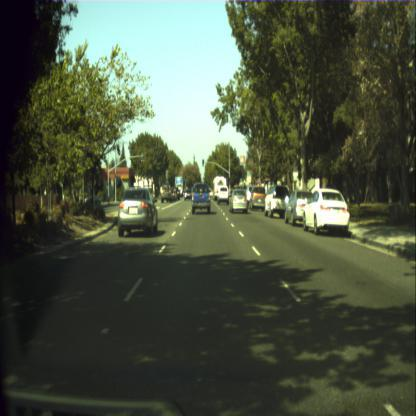Green: (241, 172, 244, 180), (202, 158, 204, 166), (184, 174, 186, 181)
